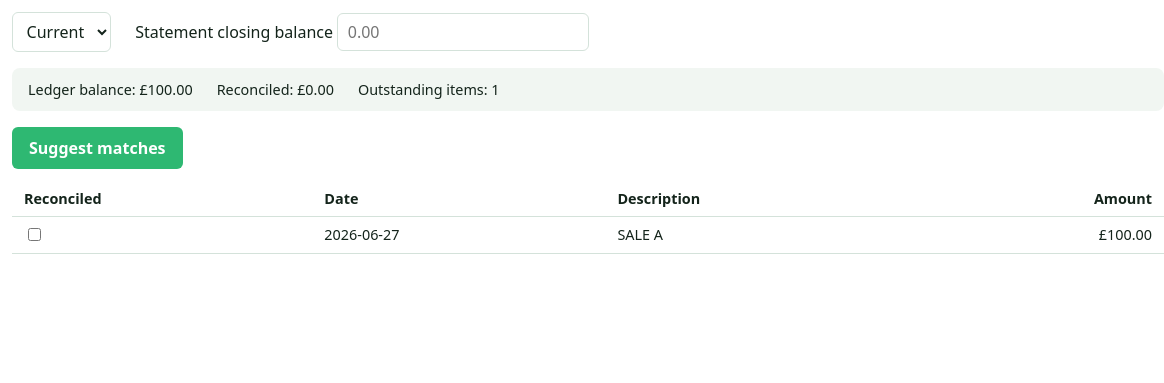
Test: ReconciliationScreen › suggests a match and accepts it
Expected: the text "SALE A" is shown, 606,216 -> 921,254
Click the button "Suggest matches": point(97, 148) 12,127 -> 183,169
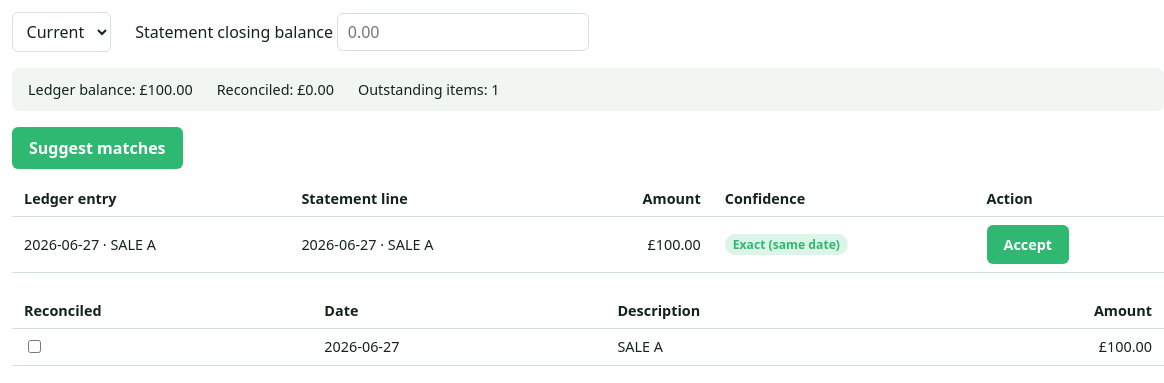
Result: the text "Exact (same date)" is shown at 725,234 -> 848,255
Click the button "Accept": point(1028, 244) 986,225 -> 1069,264
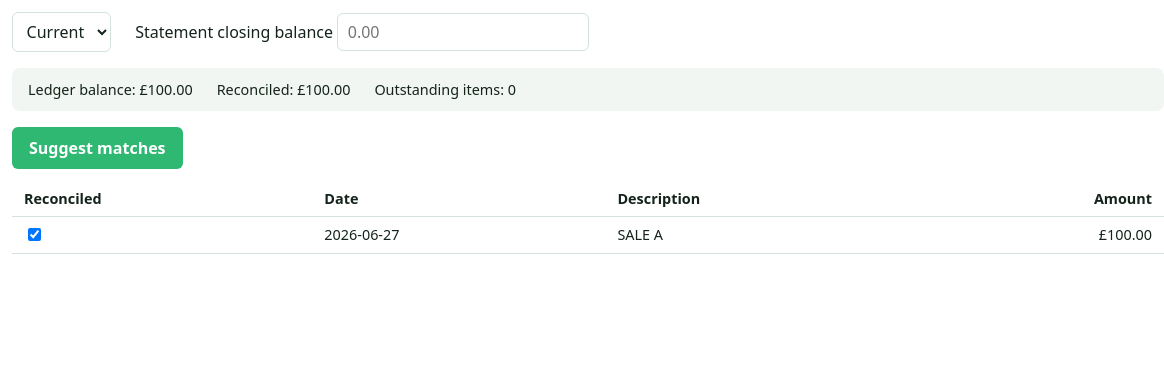
Result: the checkbox named "Reconcile SALE A" is checked at 28,228 -> 41,241
